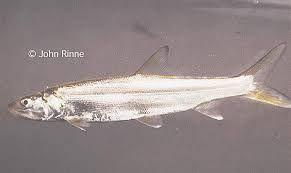Tenpounder: (9, 46, 291, 131)
